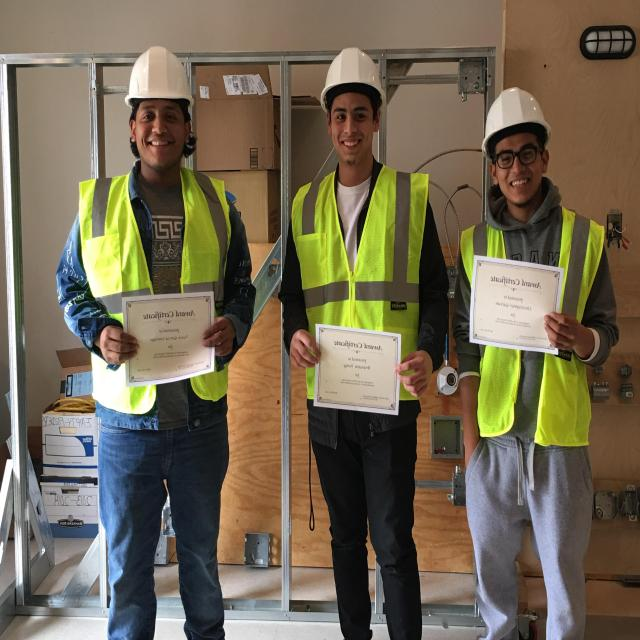Reflective-Jacket: (78, 169, 236, 414), (461, 210, 608, 452), (288, 165, 432, 412)
Safety-Helmet: (122, 39, 196, 110), (317, 44, 387, 109), (481, 79, 552, 143)
